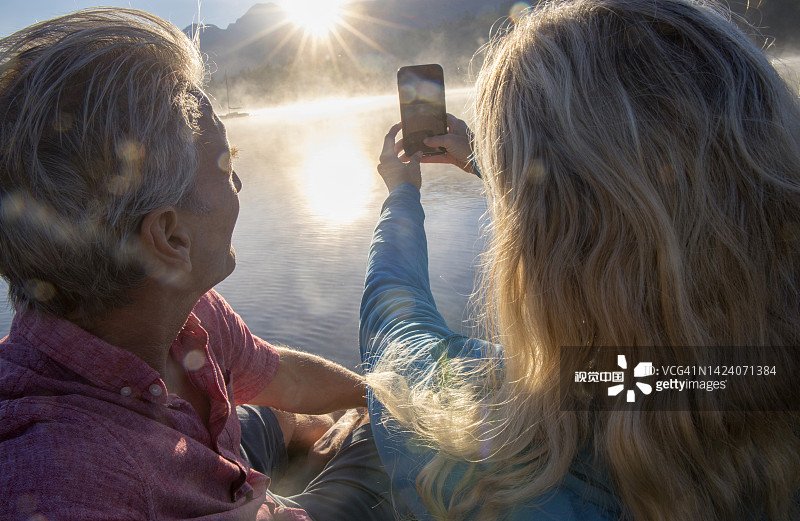taking photos: (371, 63, 482, 199)
